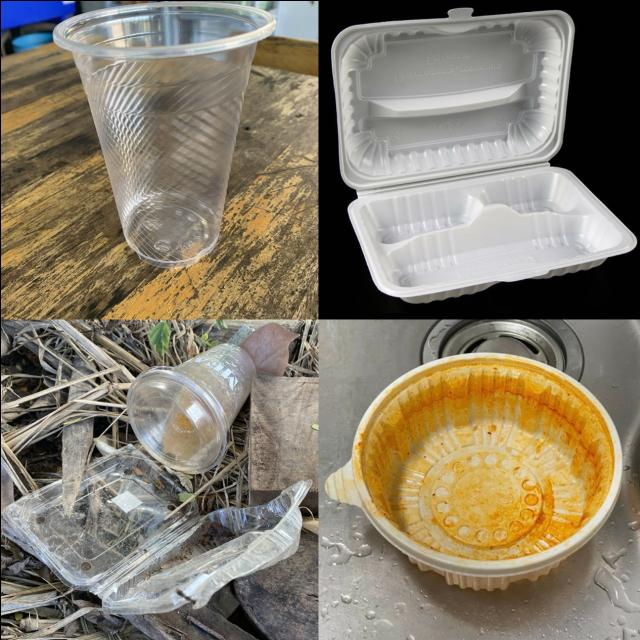plastik: (330, 8, 635, 301), (324, 354, 621, 589), (52, 1, 275, 267), (0, 445, 307, 612), (125, 342, 256, 471)
